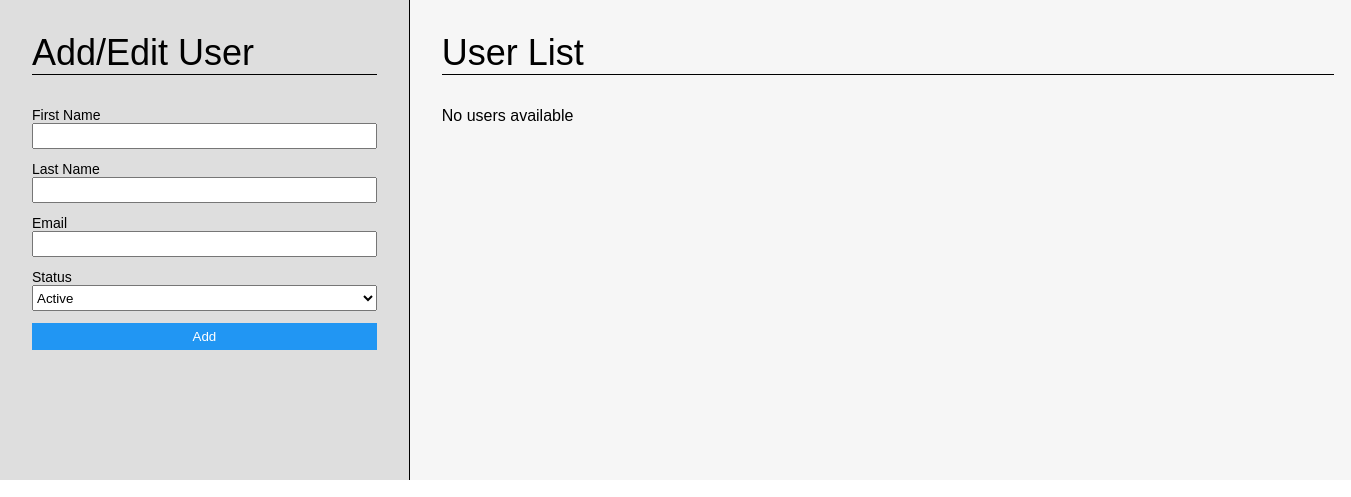
Test case: UserList › should add a user
Type "George" into the field labelled "First Name" at x=204, y=136, box [32,123,377,149]
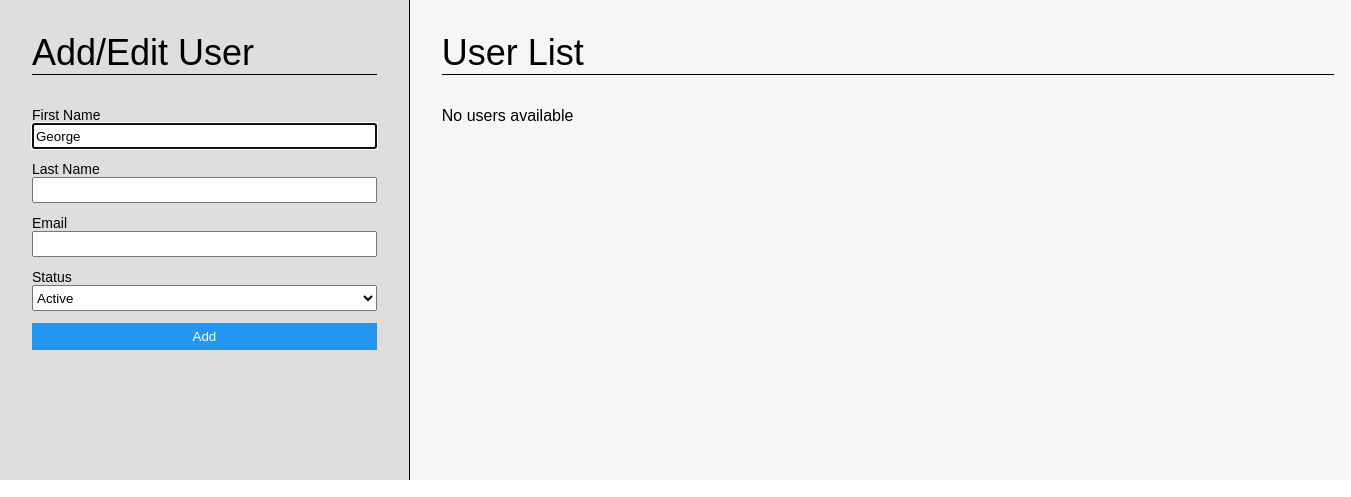
Type "Washington" into the field labelled "Last Name" at x=204, y=190, box [32,177,377,203]
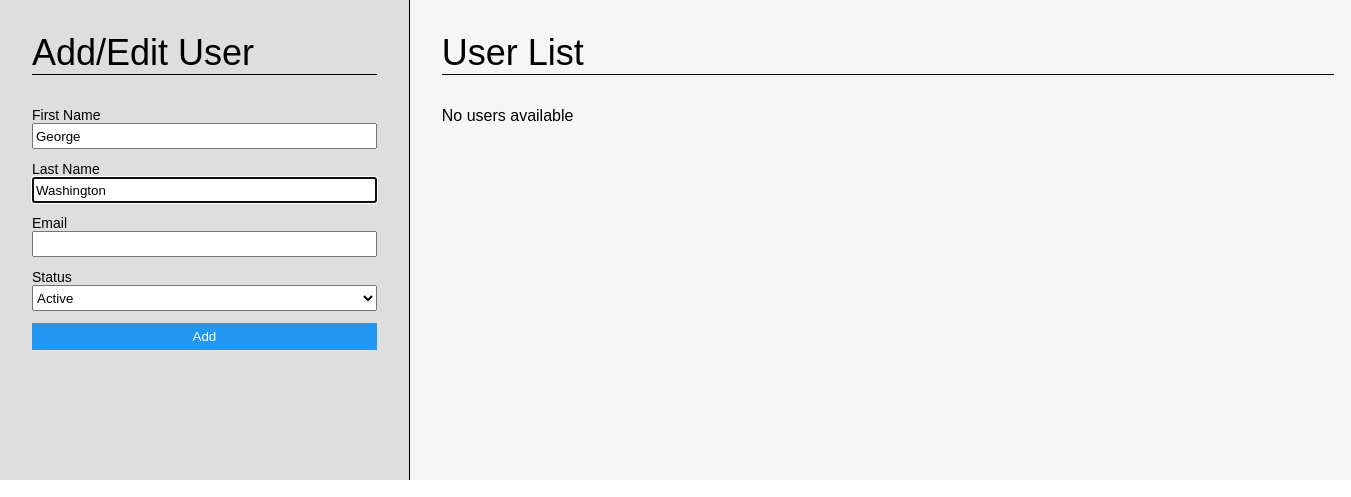
Type "george@prez.com" into the field labelled "Email" at x=204, y=244, box [32,231,377,257]
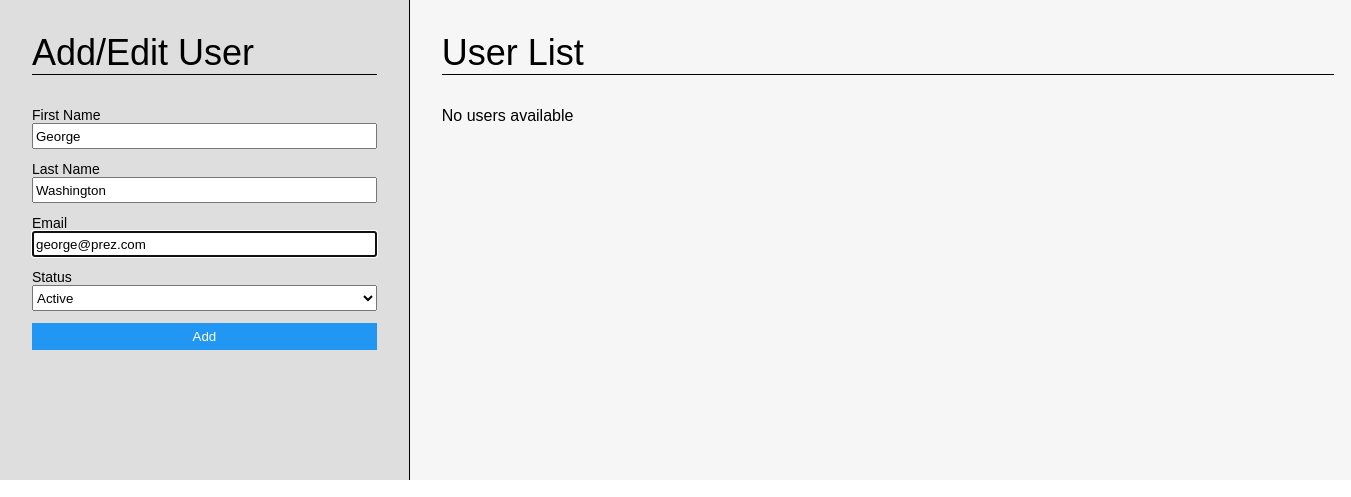
Click the button "Add" at x=204, y=336, box [32,323,377,350]
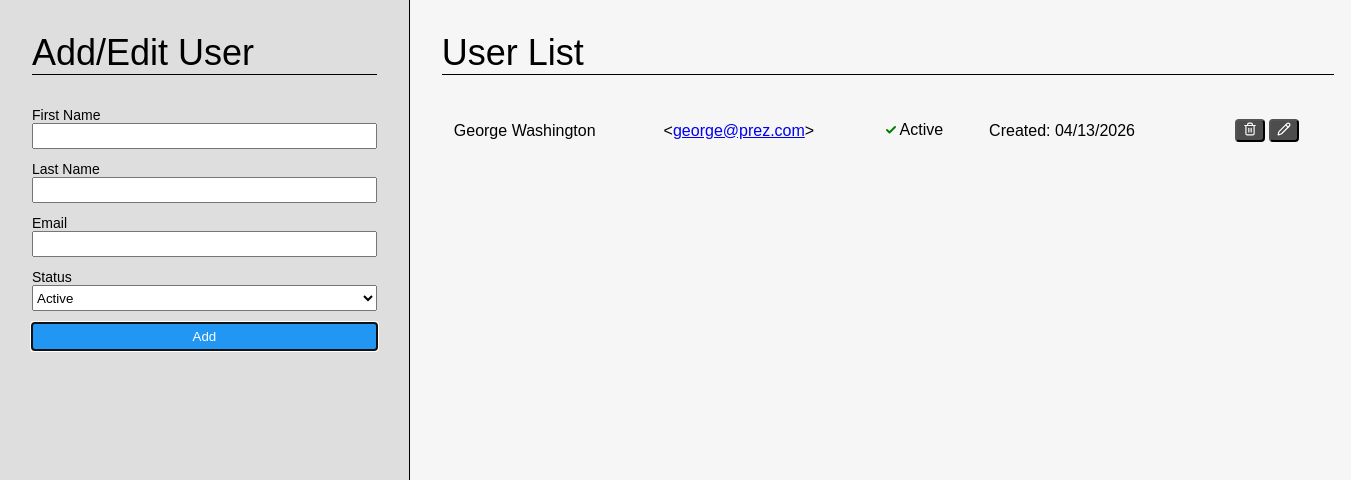
Check: the text "George Washington" is shown, box [442,107,652,154]
